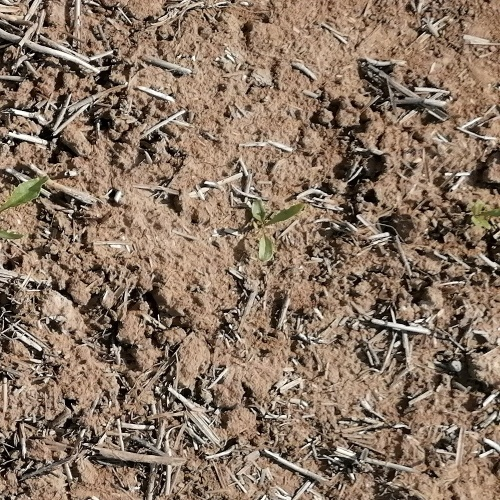beet: (251, 200, 303, 265), (0, 174, 50, 240), (470, 191, 500, 231)
